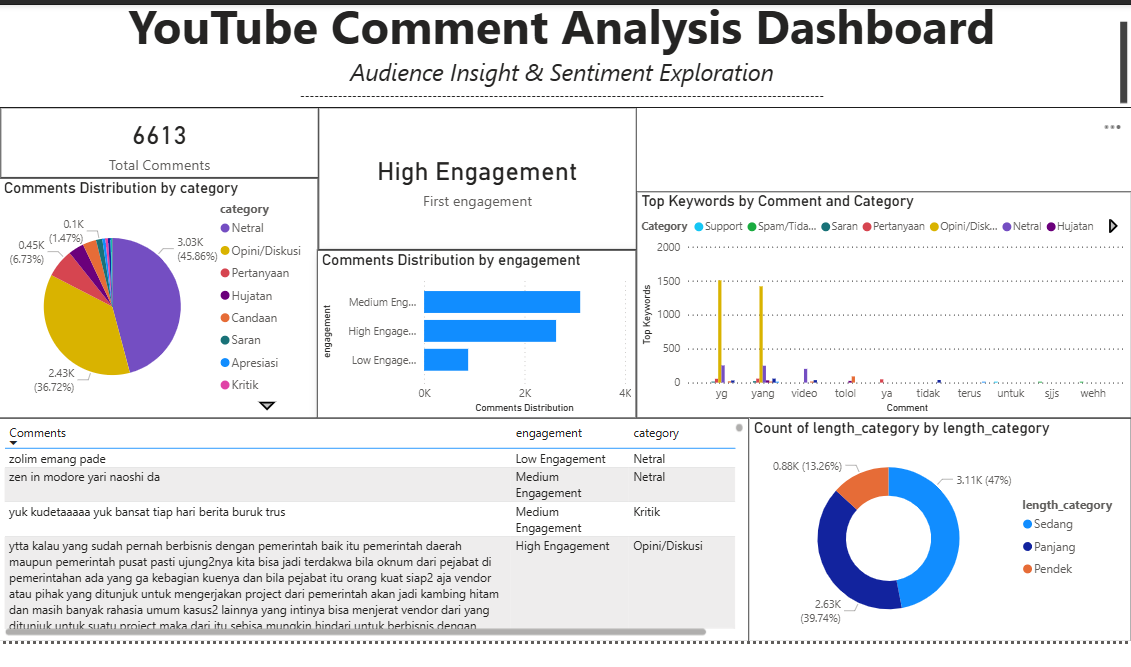

The dashboard page shown, as its layout file describes it:
{"tool":"powerbi","page":{"name":"Page 1","canvas":[1280,720],"ordinal":0},"visuals":[{"type":"card","fields":{"Values":["CountNonNull(youtube_clean_final_v2 (1).clean_comment)"]},"box":[1.7,128.8,359.3,86.4],"z":0},{"type":"card","fields":{"Values":["Min(youtube_clean_final_v2 (1).engagement)"]},"box":[381.3,142.3,325.4,145.7],"z":1000},{"type":"pieChart","fields":{"Category":["youtube_clean_final_v2 (1).category"],"Y":["CountNonNull(youtube_clean_final_v2 (1).clean_comment)"]},"box":[1.7,233.9,359.3,238.9],"z":2000},{"type":"clusteredBarChart","fields":{"Y":["CountNonNull(youtube_clean_final_v2 (1).clean_comment)"],"Category":["youtube_clean_final_v2 (1).engagement"]},"box":[381.3,311.8,325.4,161],"z":3000},{"type":"donutChart","fields":{"Y":["CountNonNull(youtube_clean_final_v2 (1).length_category)"],"Category":["youtube_clean_final_v2 (1).length_category"]},"box":[720.2,547.4,544,161],"z":4000},{"type":"clusteredColumnChart","fields":{"Category":["top_words (1).word"],"Series":["top_words (1).category"],"Y":["Sum(top_words (1).count)"]},"box":[720.2,359.3,544,176.2],"z":5000},{"type":"tableEx","fields":{"Values":["youtube_clean_final_v2 (1).clean_comment","youtube_clean_final_v2 (1).engagement","youtube_clean_final_v2 (1).category"]},"box":[1.7,486.4,705,222],"z":6000},{"type":"textbox","box":[0,0,1279.4,128.8],"z":7000},{"type":"textbox","box":[720.2,128.8,544,210.1],"z":8000}]}

Visuals, with their boxes on the page's 1280x720 design canvas (x1, y1, x2, y2). These are canvas units, not pixel positions in the 1131x667 screenshot, which may show the page scaled, cropped or inside an application window:
card - CountNonNull(youtube_clean_final_v2 (1).clean_comment): crop(2, 129, 361, 215)
card - Min(youtube_clean_final_v2 (1).engagement): crop(381, 142, 707, 288)
pieChart - youtube_clean_final_v2 (1).category x CountNonNull(youtube_clean_final_v2 (1).clean_comment): crop(2, 234, 361, 473)
clusteredBarChart - CountNonNull(youtube_clean_final_v2 (1).clean_comment) x youtube_clean_final_v2 (1).engagement: crop(381, 312, 707, 473)
donutChart - CountNonNull(youtube_clean_final_v2 (1).length_category) x youtube_clean_final_v2 (1).length_category: crop(720, 547, 1264, 708)
clusteredColumnChart - top_words (1).word x top_words (1).category: crop(720, 359, 1264, 536)
tableEx - youtube_clean_final_v2 (1).clean_comment x youtube_clean_final_v2 (1).engagement: crop(2, 486, 707, 708)
textbox: crop(0, 0, 1279, 129)
textbox: crop(720, 129, 1264, 339)
